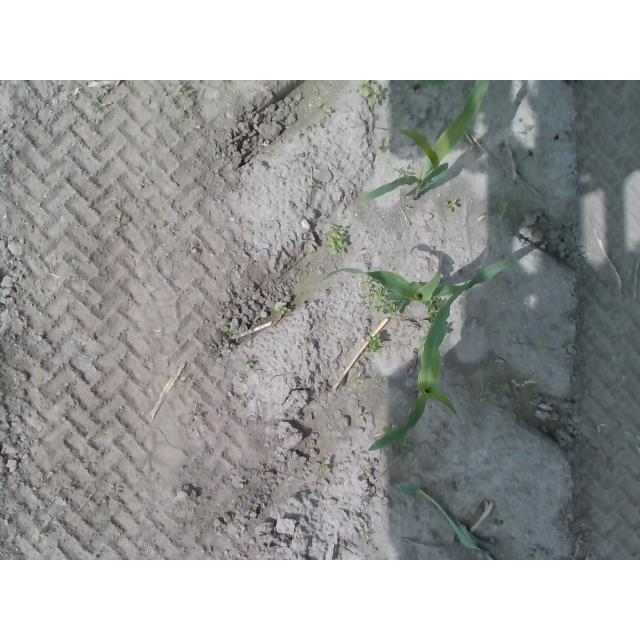Maize: (366, 281, 478, 451), (357, 80, 492, 206), (321, 255, 514, 305), (396, 480, 497, 561), (396, 80, 450, 93)
Weeds: (326, 223, 351, 255), (357, 80, 383, 104), (364, 278, 388, 299), (422, 300, 440, 324), (375, 304, 402, 316), (499, 375, 517, 391), (369, 333, 384, 352), (318, 103, 335, 117), (442, 198, 458, 211), (499, 200, 510, 217), (30, 530, 47, 540), (397, 441, 414, 450), (353, 413, 365, 425), (377, 142, 391, 152), (319, 460, 329, 473), (352, 376, 365, 385), (277, 305, 288, 315), (381, 425, 395, 432), (399, 166, 407, 176), (223, 324, 232, 332), (536, 344, 544, 352)
